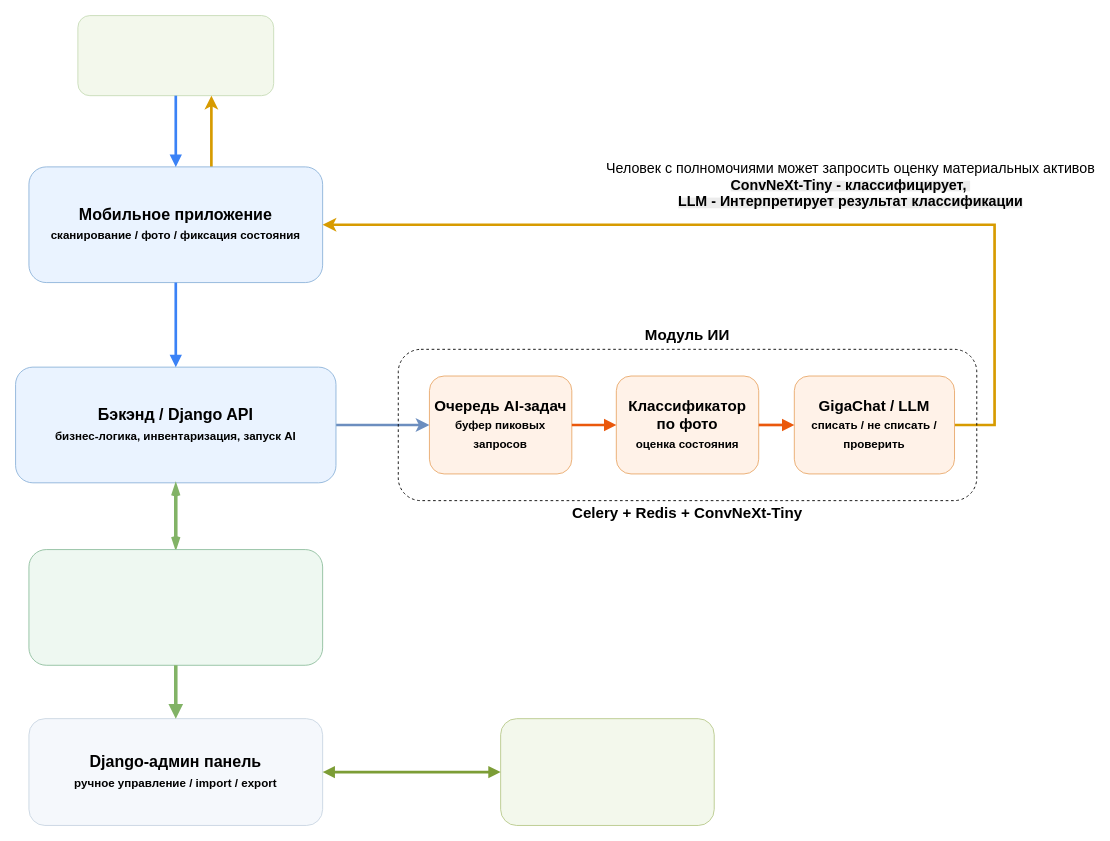
The diagram is 1110 pixels wide and 841 high, and some of its shapes have lost their labels. The centre of each missing label's shape, as x and y in pixels:
1С УНФ import / export XML: the point at 607,771
База данных активы / фото / результаты / рекомендации: the point at 175,607
Пользователь: the point at 175,55
